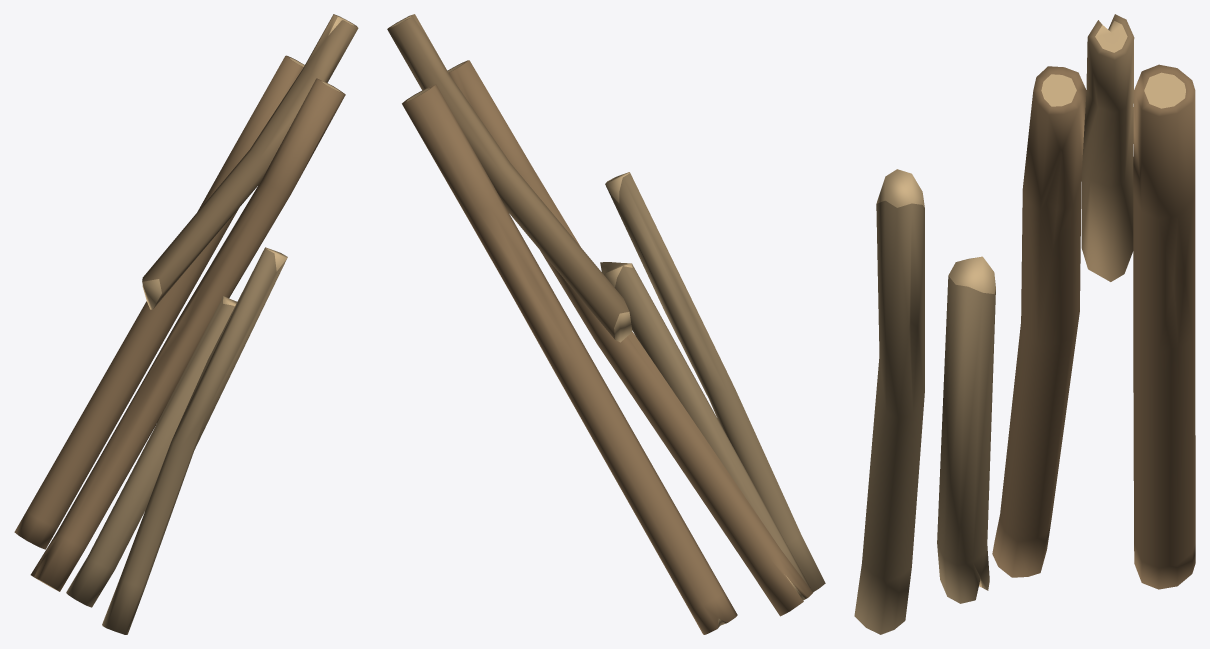
The model's file is rpgpp_av_roof_01_6x5x3_half_d.gltf.
3 renders of one model, left to right at view 1: azimuth 30°, elevation 25°; view 2: azimuth 150°, elevation 25°; view 3: azimuth 270°, elevation 25°, orthographic. The views are drawn at different scales.
Visible parts, largest first — view 1: rpgpp_av_roof_01_6x5x3_half_d; view 2: rpgpp_av_roof_01_6x5x3_half_d; view 3: rpgpp_av_roof_01_6x5x3_half_d.
Part boxes in pixels (bbox=[...]): rpgpp_av_roof_01_6x5x3_half_d: bbox=[14, 14, 358, 634]; rpgpp_av_roof_01_6x5x3_half_d: bbox=[387, 14, 825, 634]; rpgpp_av_roof_01_6x5x3_half_d: bbox=[854, 14, 1195, 634].
Size of the model in its own units: 0.0474 by 0.0647 by 0.0235.
1 material, 1 textured.
